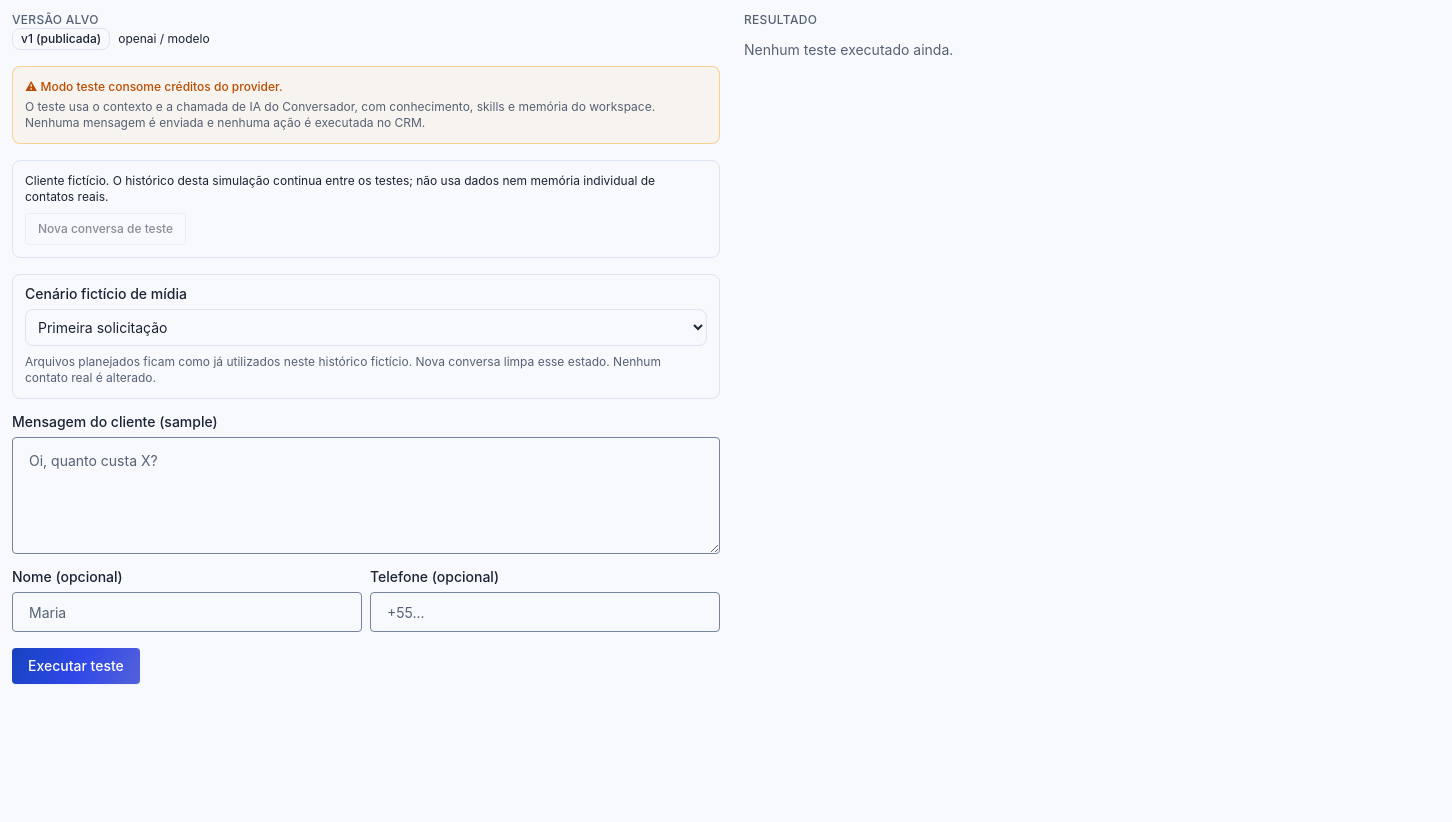
preserva a mensagem do cliente e respostas parciais quando o turno é abortado
This screenshot has width=1452, height=822.
Type "Meu pedido" into the text box labelled "Mensagem do cliente (sample)".
click(366, 496); type("Meu pedido")  # box [12, 437, 720, 554]
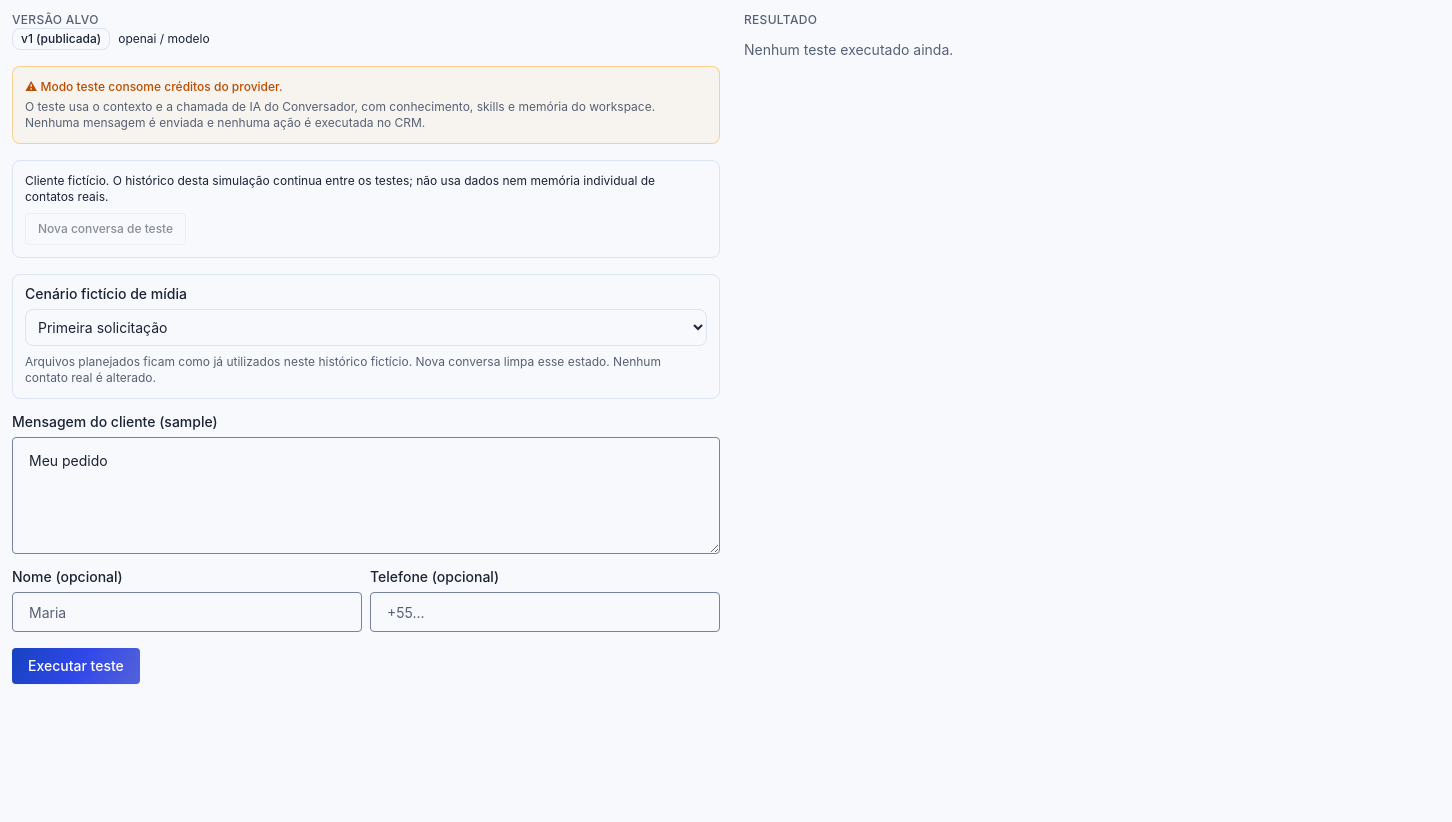
Click the button "Executar teste".
click(76, 666)  # box [12, 648, 140, 684]
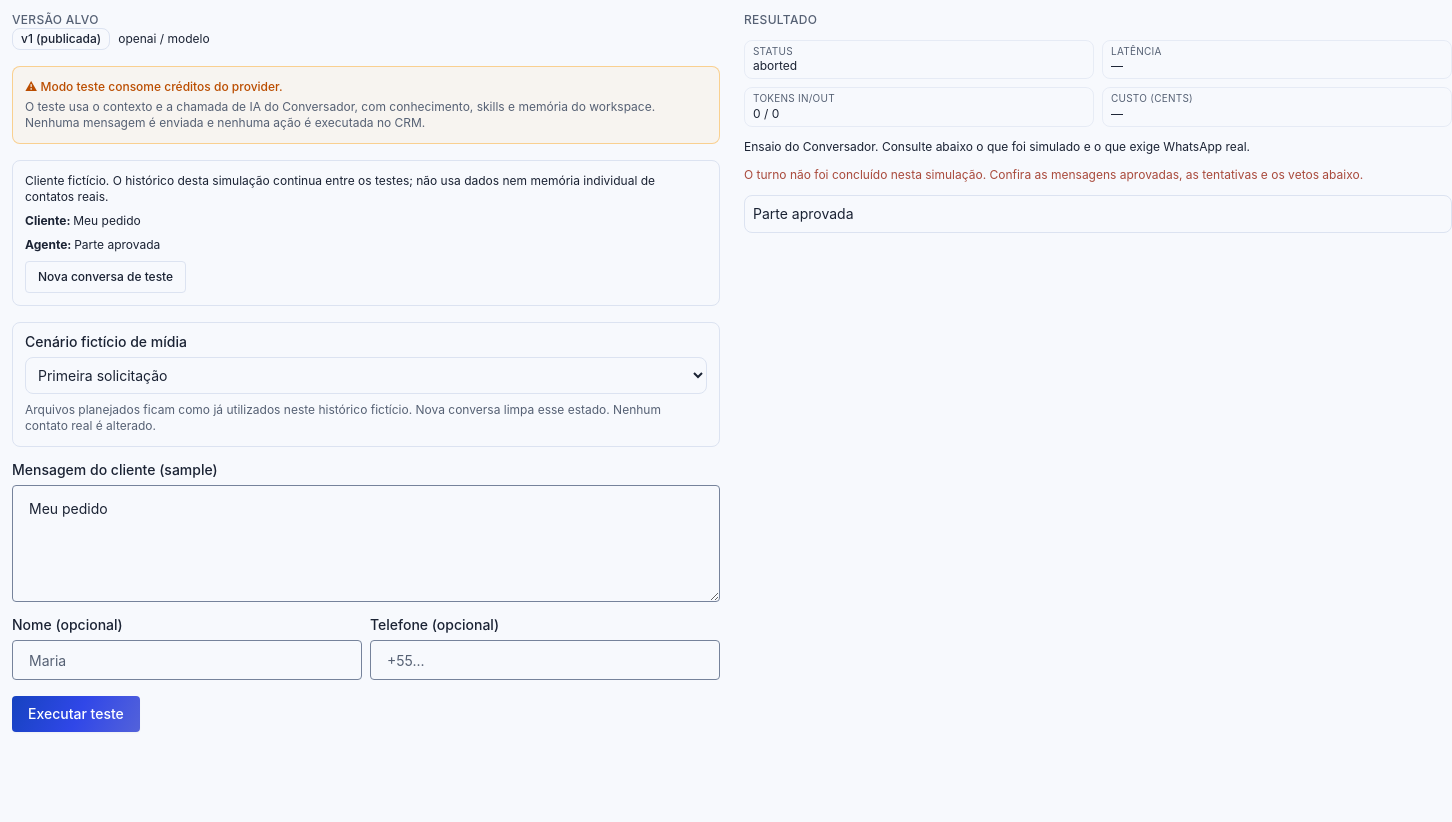
expect the button "Nova conversa de teste" is enabled: met, box [25, 261, 186, 293]
expect the element with test id "test-conversation-history" shows "Meu pedido": met, box [73, 213, 141, 228]
expect the element with test id "test-conversation-history" shows "Parte aprovada": met, box [74, 237, 160, 252]
